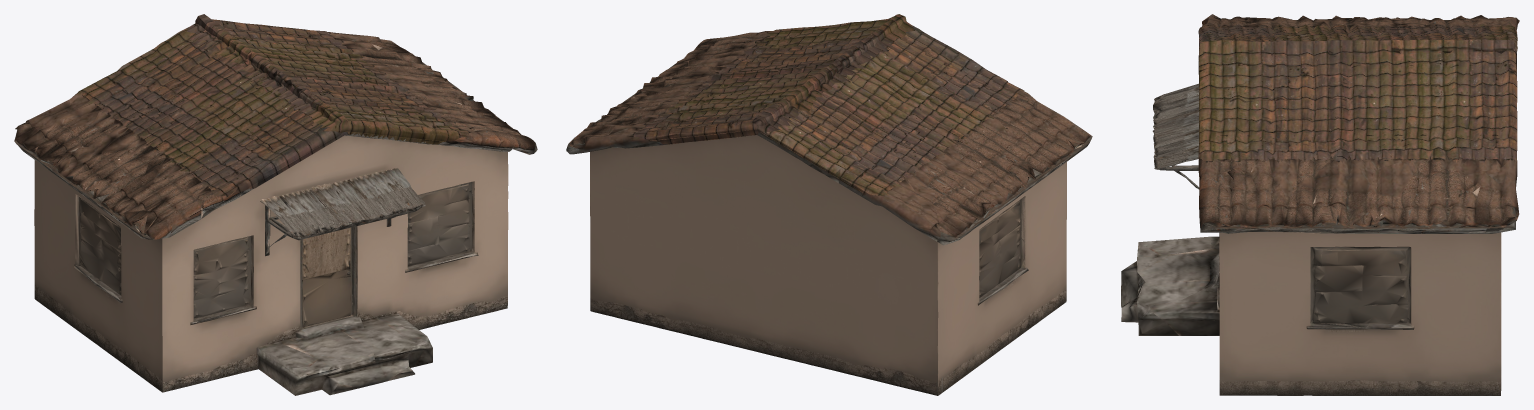
The model's file is house-boarded-stucco.glb.
The picture shows the model from 3 angles, left to right: view 1: azimuth 30°, elevation 25°; view 2: azimuth 150°, elevation 25°; view 3: azimuth 270°, elevation 25°; orthographic projection. The views are drawn at different scales.
Bounding box in the file's own units: 7.15 × 4.2 × 5.77.
Materials: 3 (3 with a texture image).
